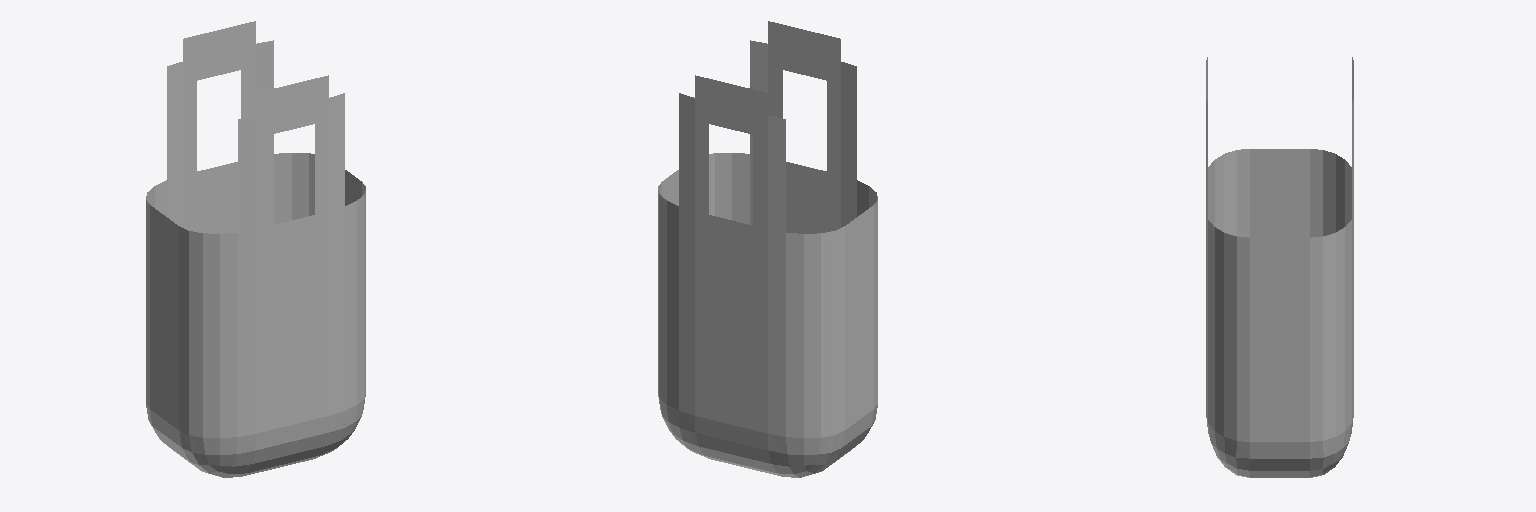
File: bag1-1.obj
The picture shows the model from 3 angles: view 1: azimuth 30°, elevation 25°; view 2: azimuth 150°, elevation 25°; view 3: azimuth 270°, elevation 25°; orthographic projection.
Parts seen in each view (by area): view 1: Cube-0-1.007_Cube.106; view 2: Cube-0-1.007_Cube.106; view 3: Cube-0-1.007_Cube.106.
Part boxes in pixels (x1,y1,x2,y2): Cube-0-1.007_Cube.106: (146,21,365,477); Cube-0-1.007_Cube.106: (658,21,877,477); Cube-0-1.007_Cube.106: (1206,57,1353,477).
Bounding box in the file's own units: 2 × 4.16 × 1.4.